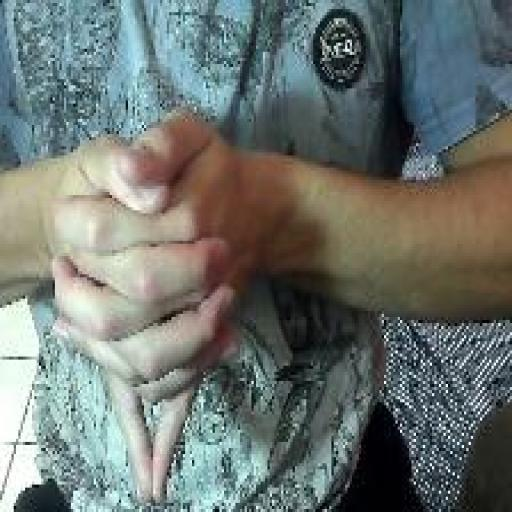Tatsu -dragon-: (48, 96, 245, 507)
